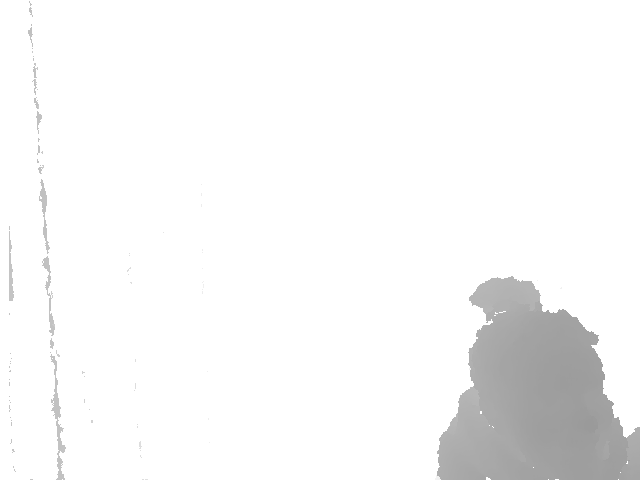head: (467, 277, 607, 464)
person: (435, 277, 640, 480)
